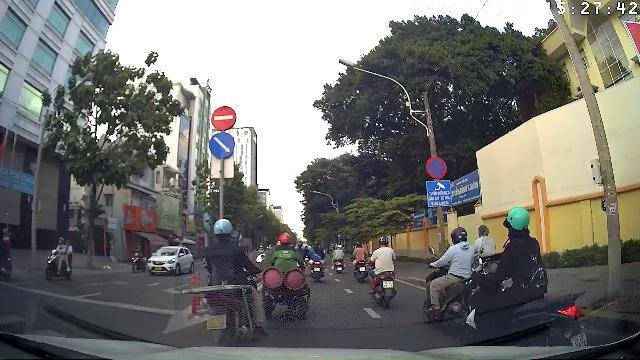102-cam-di-nguoc-chieu: (210, 105, 237, 131)
130-cam-dung-va-do-xe: (426, 156, 447, 179)
302a-huong-phai-di-vong-chuong-ngai-vat-1: (209, 132, 236, 159)
